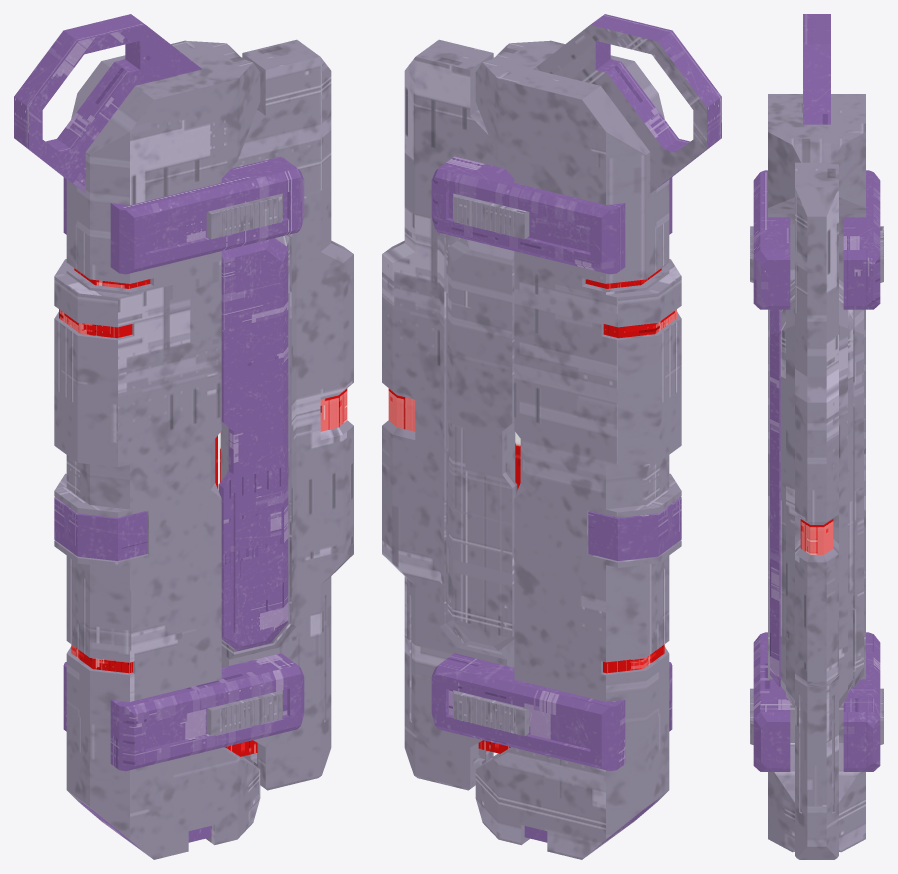
File: FL_MintPass_Ani_Open_01.glb
3 renders of one model, left to right at view 1: azimuth 30°, elevation 25°; view 2: azimuth 150°, elevation 25°; view 3: azimuth 270°, elevation 25°, orthographic. The views are drawn at different scales.
Parts seen in each view (by area): view 1: Cube.008; view 2: Cube.008; view 3: Cube.008.
Boxes of the visible parts, box(x1,y1,x2,y2) form: Cube.008: box(14, 14, 353, 859); Cube.008: box(382, 14, 721, 859); Cube.008: box(750, 14, 883, 859).
Bounding box in the file's own units: 0.7443 × 1.78 × 0.2832.
Materials: 1 (1 with a texture image).
